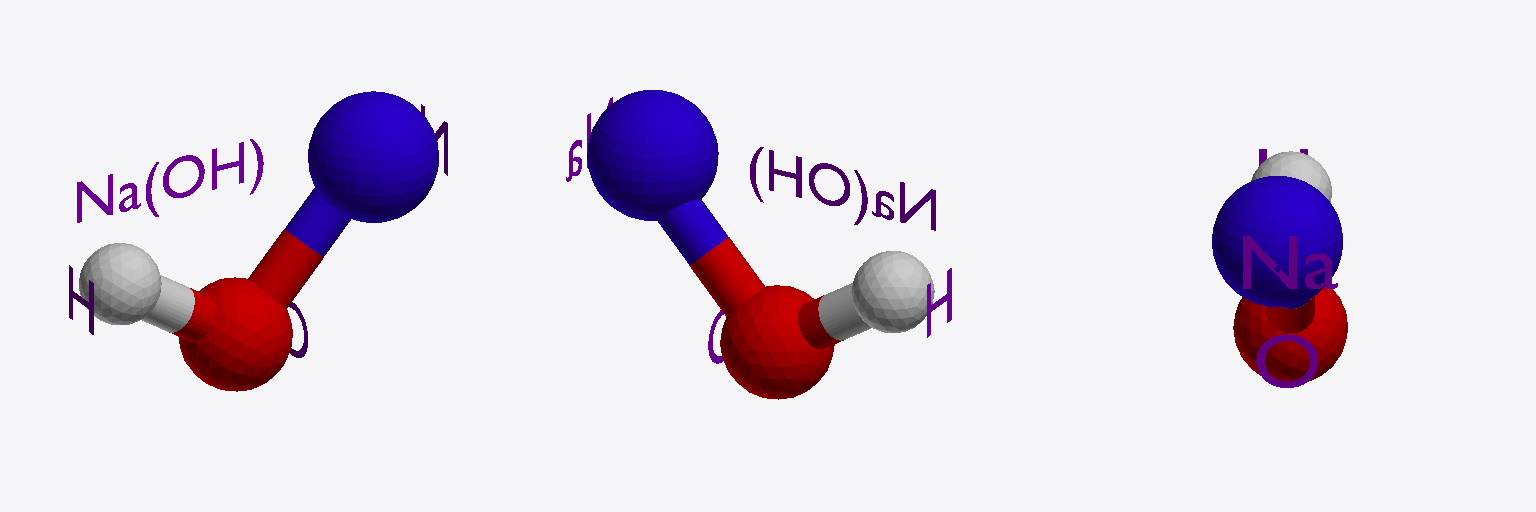
File: naoh.obj
3 renders of one model, left to right at view 1: azimuth 30°, elevation 25°; view 2: azimuth 150°, elevation 25°; view 3: azimuth 270°, elevation 25°, orthographic.
Parts seen in each view (by area): view 1: Shape_IndexedFaceSet.002_Shape_IndexedFaceSet.335, Shape_IndexedFaceSet.003_Shape_IndexedFaceSet.333, Shape_IndexedFaceSet.005_Shape_IndexedFaceSet.334, Text_Text.030, Text.003_Text.033; view 2: Shape_IndexedFaceSet.002_Shape_IndexedFaceSet.335, Shape_IndexedFaceSet.003_Shape_IndexedFaceSet.333, Shape_IndexedFaceSet.005_Shape_IndexedFaceSet.334, Text_Text.030, Text.003_Text.033; view 3: Shape_IndexedFaceSet.002_Shape_IndexedFaceSet.335, Shape_IndexedFaceSet.003_Shape_IndexedFaceSet.333, Text.001_Text.031, Shape_IndexedFaceSet.005_Shape_IndexedFaceSet.334, Text.002_Text.032.
Boxes of the visible parts, x1,y1,x2,y2 form: Shape_IndexedFaceSet.002_Shape_IndexedFaceSet.335: [285, 91, 438, 256]; Shape_IndexedFaceSet.003_Shape_IndexedFaceSet.333: [169, 229, 323, 391]; Shape_IndexedFaceSet.005_Shape_IndexedFaceSet.334: [79, 243, 194, 332]; Text_Text.030: [77, 139, 263, 222]; Text.003_Text.033: [69, 265, 93, 334]; Shape_IndexedFaceSet.002_Shape_IndexedFaceSet.335: [587, 90, 727, 264]; Shape_IndexedFaceSet.003_Shape_IndexedFaceSet.333: [689, 237, 843, 399]; Shape_IndexedFaceSet.005_Shape_IndexedFaceSet.334: [818, 251, 934, 340]; Text_Text.030: [750, 147, 935, 230]; Text.003_Text.033: [927, 268, 951, 337]; Shape_IndexedFaceSet.002_Shape_IndexedFaceSet.335: [1212, 176, 1342, 308]; Shape_IndexedFaceSet.003_Shape_IndexedFaceSet.333: [1233, 287, 1347, 381]; Text.001_Text.031: [1243, 236, 1337, 288]; Shape_IndexedFaceSet.005_Shape_IndexedFaceSet.334: [1251, 151, 1331, 202]; Text.002_Text.032: [1256, 334, 1317, 387].
Bounding box in the file's own units: 24.35 × 17.57 × 8.31.